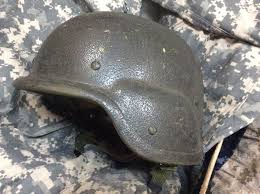helmet: (9, 8, 217, 171)
